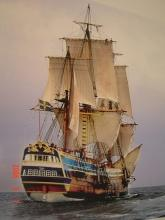fanchuan: (16, 1, 149, 205)
